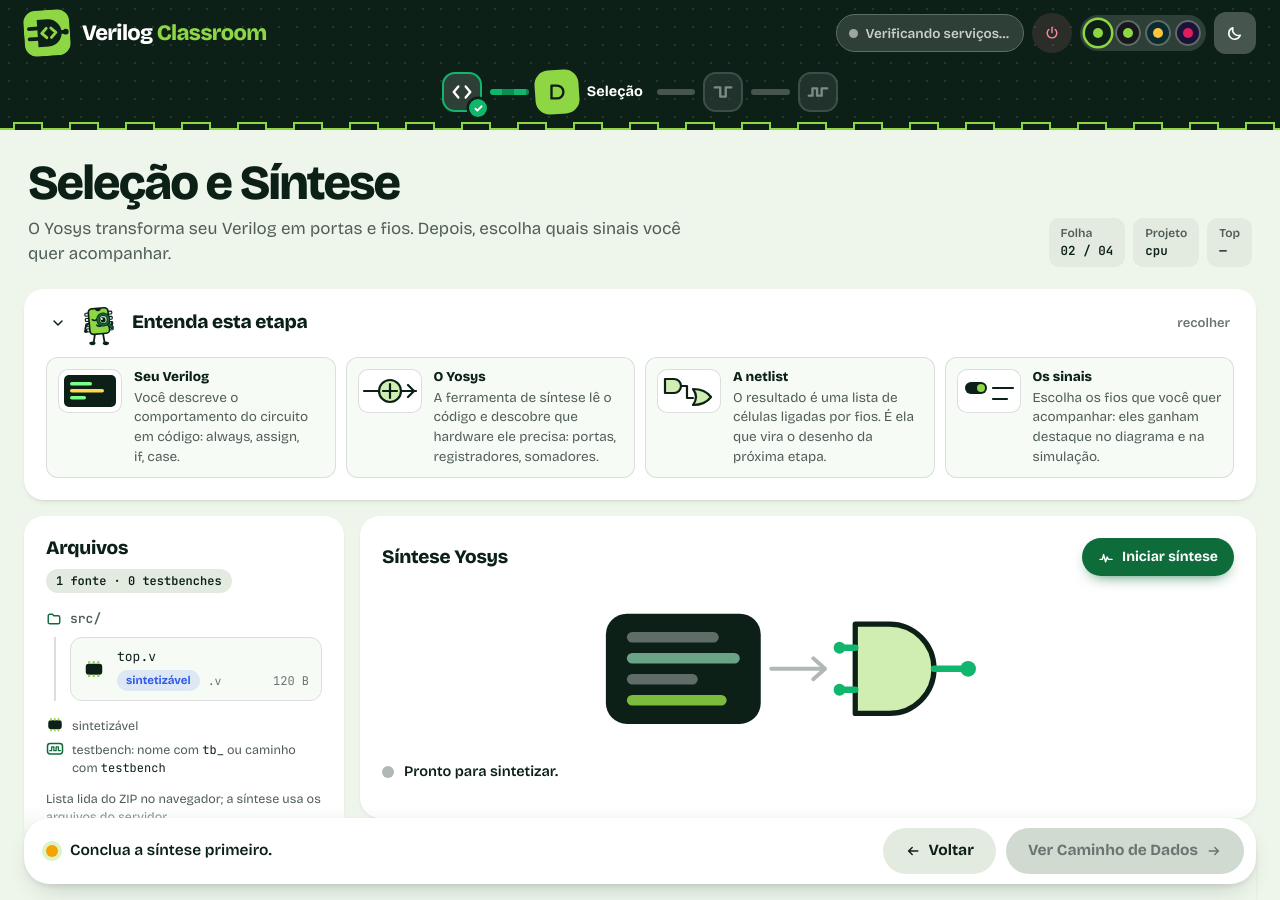
Scenario: Tela 2b — módulo top (#27) › candidatos múltiplos vêm da netlist e o top é o do backend
Click the button "Iniciar síntese": [1158, 557] box [1082,538,1234,576]
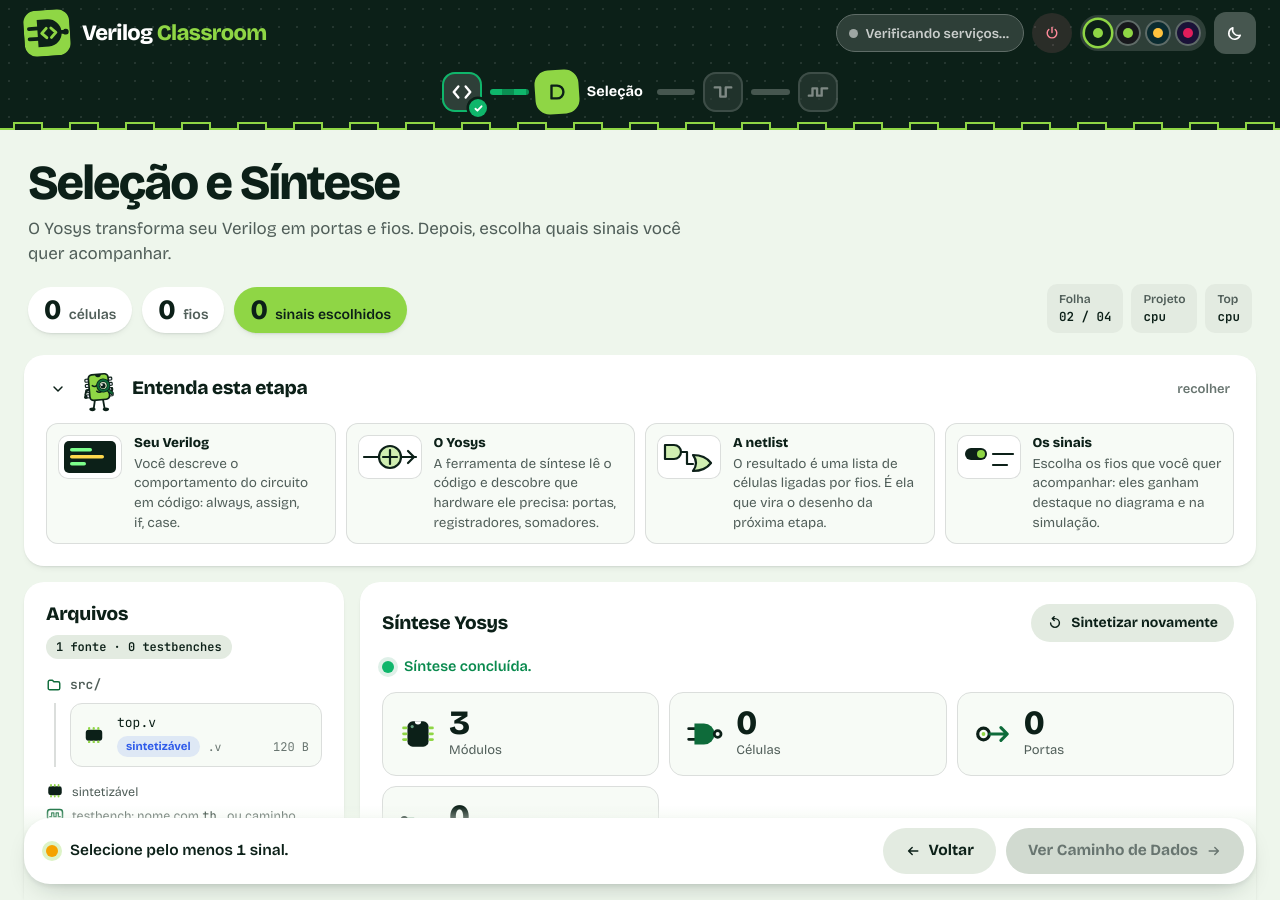
Check: the text "Selecione pelo menos 1 sinal." is shown, box [70,839,288,863]
